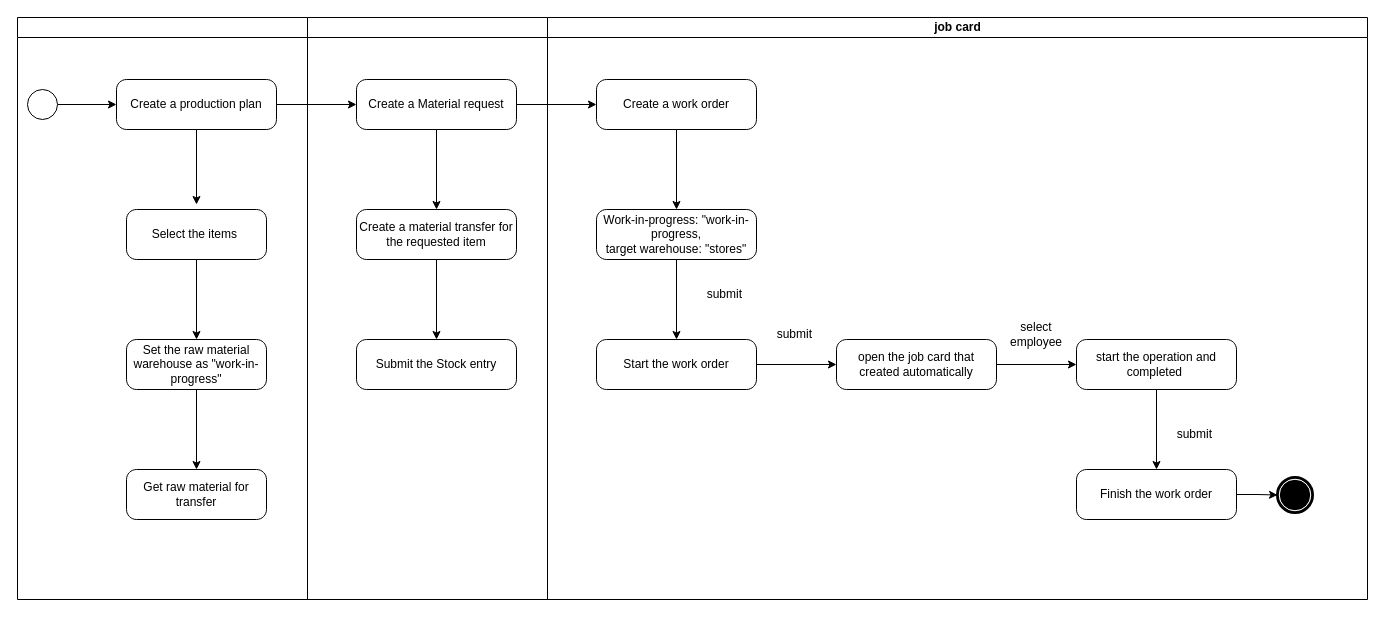
The diagram is 1385 pixels wide and 617 high, and some of its shapes have lost their labels. The shapes that lost their labels are listed below. From the top down, each one's centre as x and y in pixels, then its label:
pixel 162 308: production plan
pixel 427 308: work order
